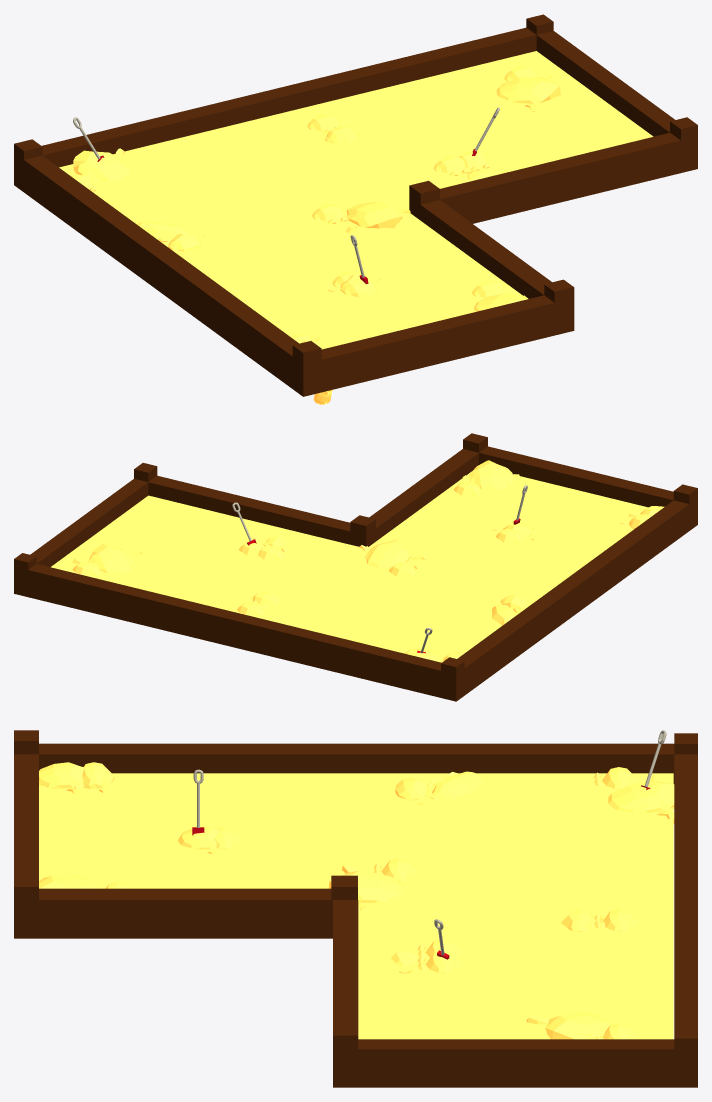
Rendered from sandbak.glb.
3 renders of one model, top to bottom at view 1: azimuth 30°, elevation 25°; view 2: azimuth 150°, elevation 25°; view 3: azimuth 270°, elevation 25°, orthographic. The views are drawn at different scales.
Visible parts, largest first — view 1: Cube, Cube.001, Suzanne.007, Suzanne.008, Suzanne.006, Suzanne.017, Suzanne.001; view 2: Cube, Cube.001, Suzanne.006, Suzanne.007, Suzanne.004; view 3: Cube, Cube.001, Suzanne.008, Suzanne.007, Suzanne.006, Suzanne.017, Suzanne.002, Suzanne.004, Suzanne.001, Suzanne.003, Suzanne.018, Suzanne.010 (+4 smaller).
Part boxes in pixels (<box>): Cube: <box>59,51,653,348</box>; Cube.001: <box>14,14,697,396</box>; Suzanne.007: <box>496,73,560,111</box>; Suzanne.008: <box>65,148,131,181</box>; Suzanne.006: <box>346,202,410,233</box>; Suzanne.017: <box>136,221,189,242</box>; Suzanne.001: <box>328,275,379,297</box>; Cube: <box>51,471,648,661</box>; Cube.001: <box>14,433,697,701</box>; Suzanne.006: <box>359,539,427,568</box>; Suzanne.007: <box>72,544,143,573</box>; Suzanne.004: <box>462,460,519,489</box>; Cube: <box>39,773,673,1039</box>; Cube.001: <box>14,730,697,1087</box>; Suzanne.008: <box>608,774,674,823</box>; Suzanne.007: <box>526,1012,612,1039</box>; Suzanne.006: <box>328,865,405,912</box>; Suzanne.017: <box>428,771,487,800</box>; Suzanne.002: <box>39,762,84,794</box>; Suzanne.004: <box>39,874,103,888</box>; Suzanne.001: <box>178,825,219,855</box>; Suzanne.003: <box>74,762,114,793</box>; Suzanne.018: <box>395,774,429,805</box>; Suzanne.010: <box>594,767,638,789</box>.
Bounding box in the file's own units: 27.2 × 4.63 × 25.73.
